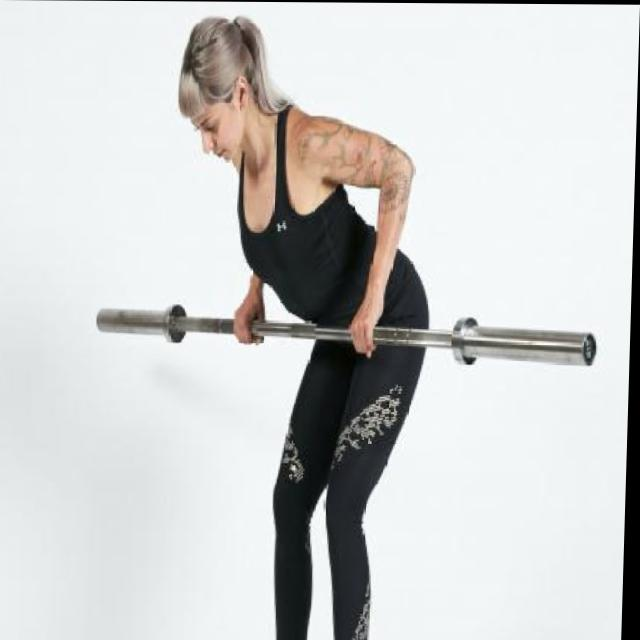barbell: (454, 295, 611, 382)
